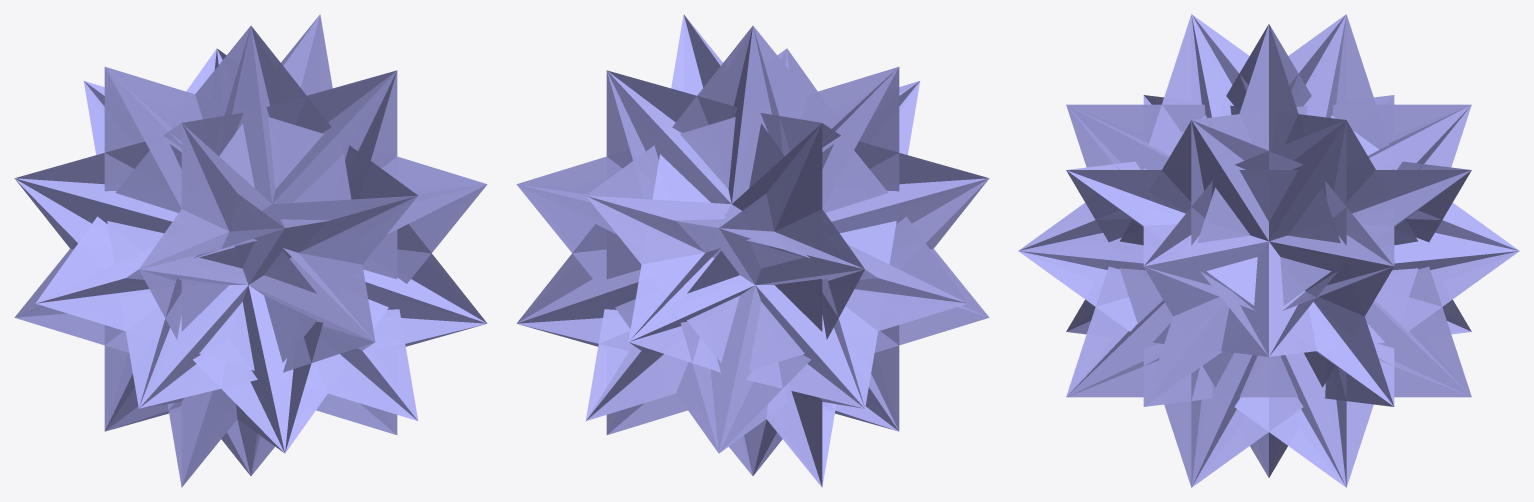
File: GreatRhombidodecacron.obj
3 renders of one model, left to right at view 1: azimuth 30°, elevation 25°; view 2: azimuth 150°, elevation 25°; view 3: azimuth 270°, elevation 25°, orthographic.
Size of the model in its own units: 4.47 by 4.47 by 4.47.
